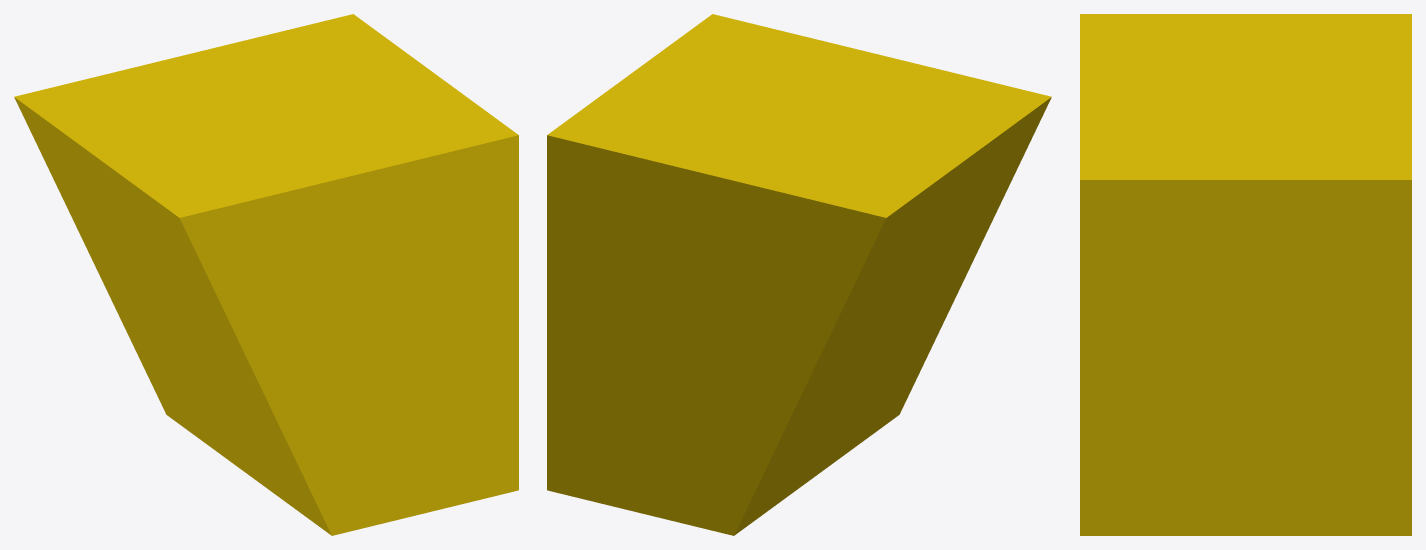
Rendered from handguard_02.fbx.
3 renders of one model, left to right at view 1: azimuth 30°, elevation 25°; view 2: azimuth 150°, elevation 25°; view 3: azimuth 270°, elevation 25°, orthographic.
Visible parts, largest first — view 1: Plane.003; view 2: Plane.003; view 3: Plane.003.
Boxes of the visible parts, x1=… form: Plane.003: x1=14, y1=14, x2=518, y2=535; Plane.003: x1=547, y1=14, x2=1051, y2=535; Plane.003: x1=1080, y1=14, x2=1411, y2=535.
Bounding box in the file's own units: 200 × 200 × 169.
